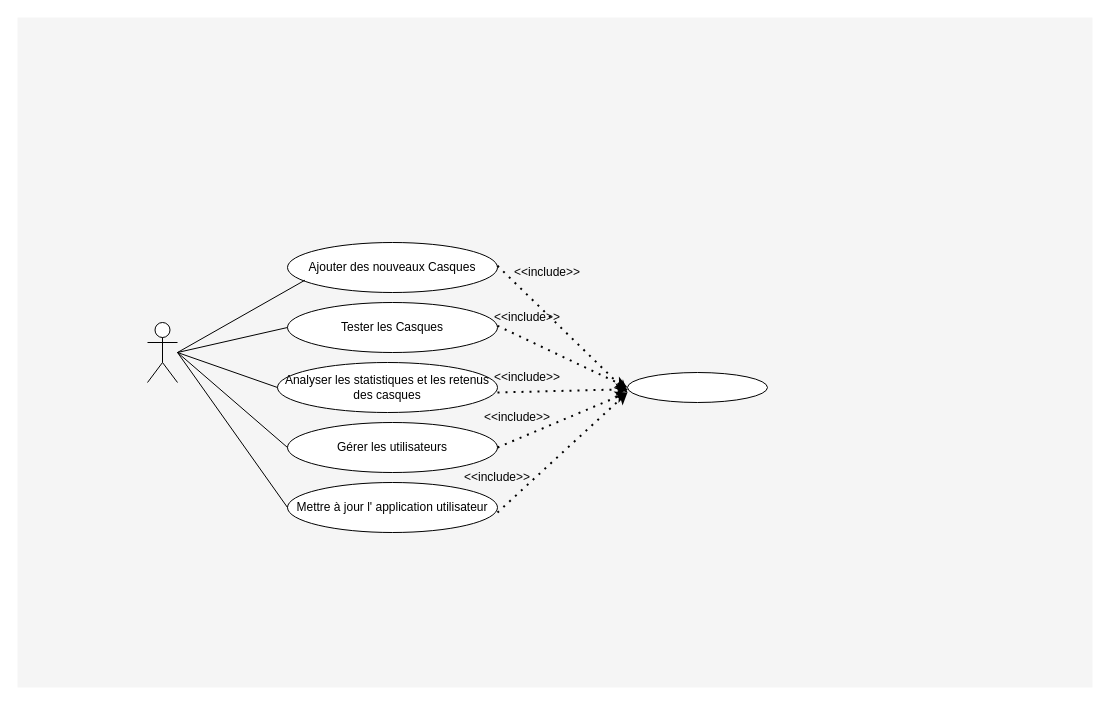
The diagram is 1109 pixels wide and 704 high, and some of its shapes have lost their labels. Here are the shapes that lost their labels. From the top down, the centre of each, then its label:
At pixel 162 352: "Administarteur".
At pixel 697 387: "S'authenitifier".
